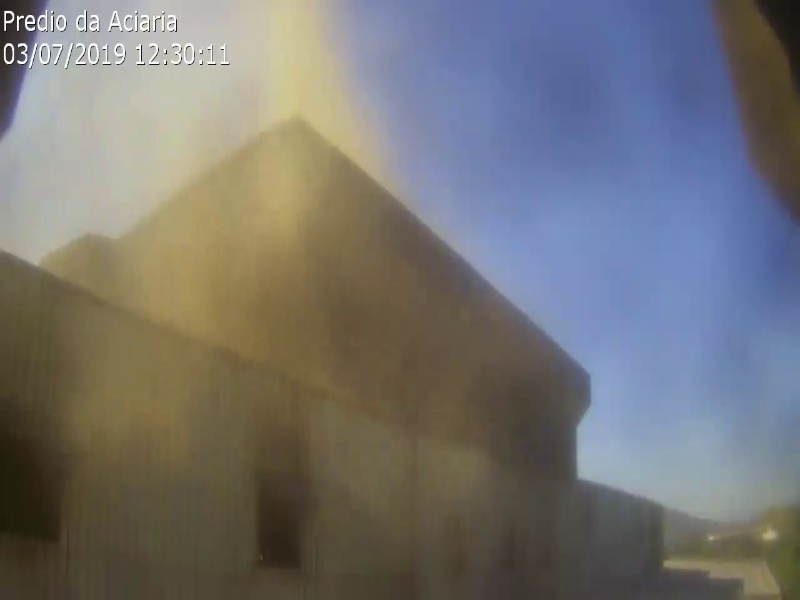Galpao: (1, 258, 591, 600)
Janela: (256, 466, 317, 572)
Pessimo: (211, 155, 312, 224), (223, 281, 325, 347), (224, 211, 304, 287), (79, 256, 176, 318), (32, 330, 123, 384), (178, 264, 237, 339), (137, 219, 212, 274), (266, 48, 318, 103), (122, 348, 183, 380)
